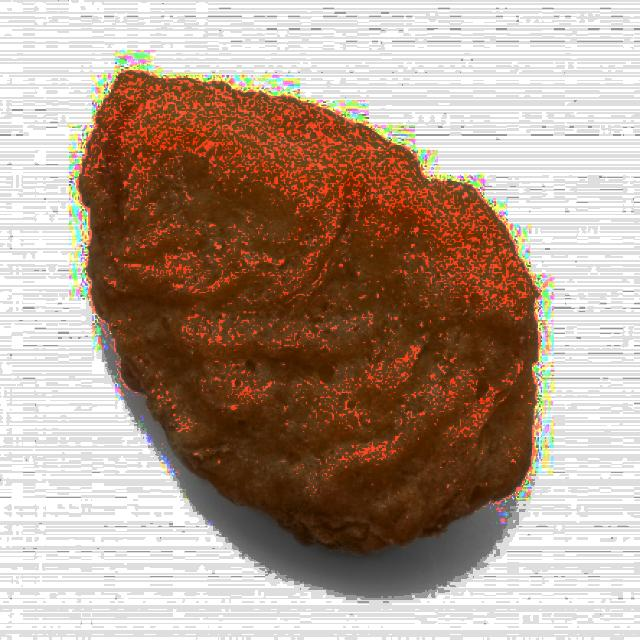chicken_nuggets: (65, 56, 576, 586)
